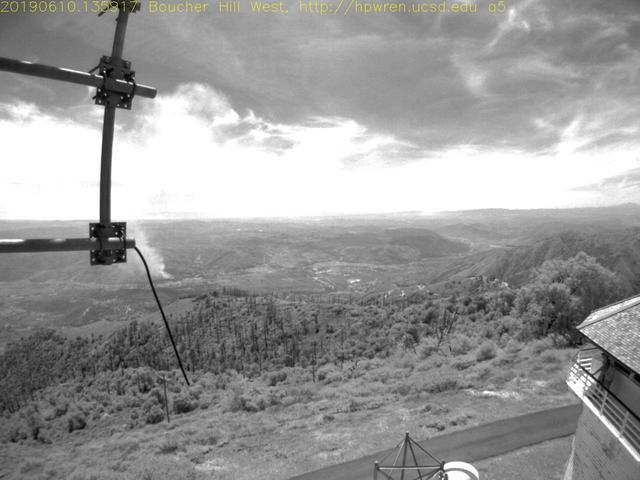smoke: (130, 219, 171, 283)
